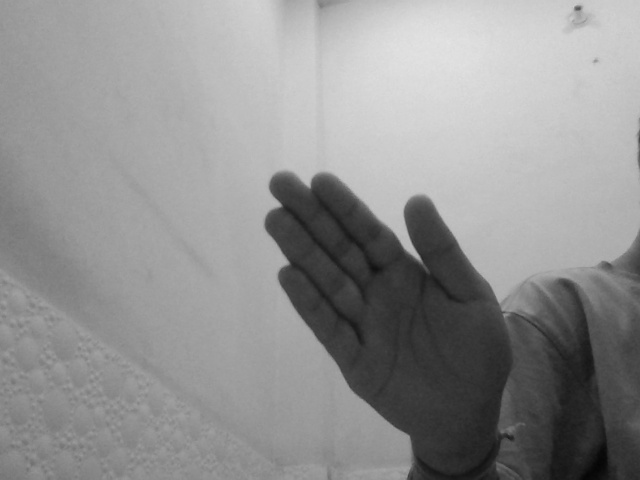Hello: (262, 166, 515, 438)
